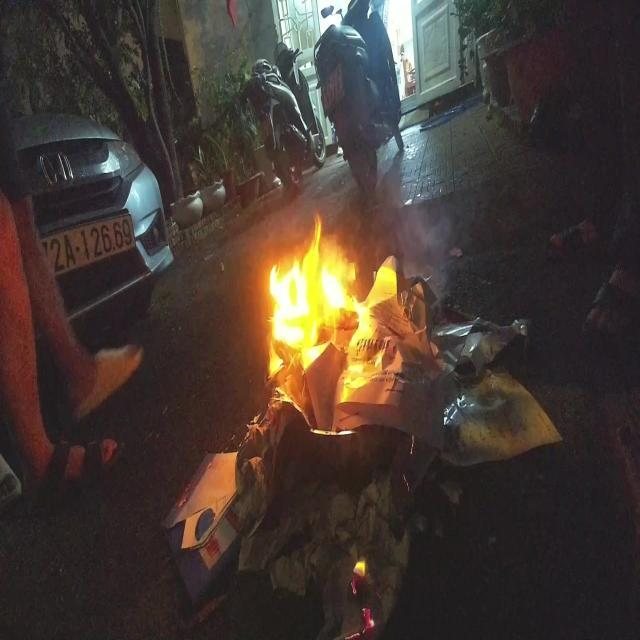Fire: (266, 215, 371, 378), (352, 559, 368, 590)
